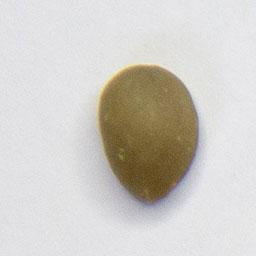premium: (97, 61, 201, 206)
